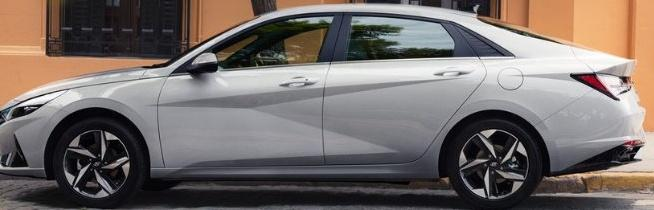Cars: (1, 6, 646, 209)
